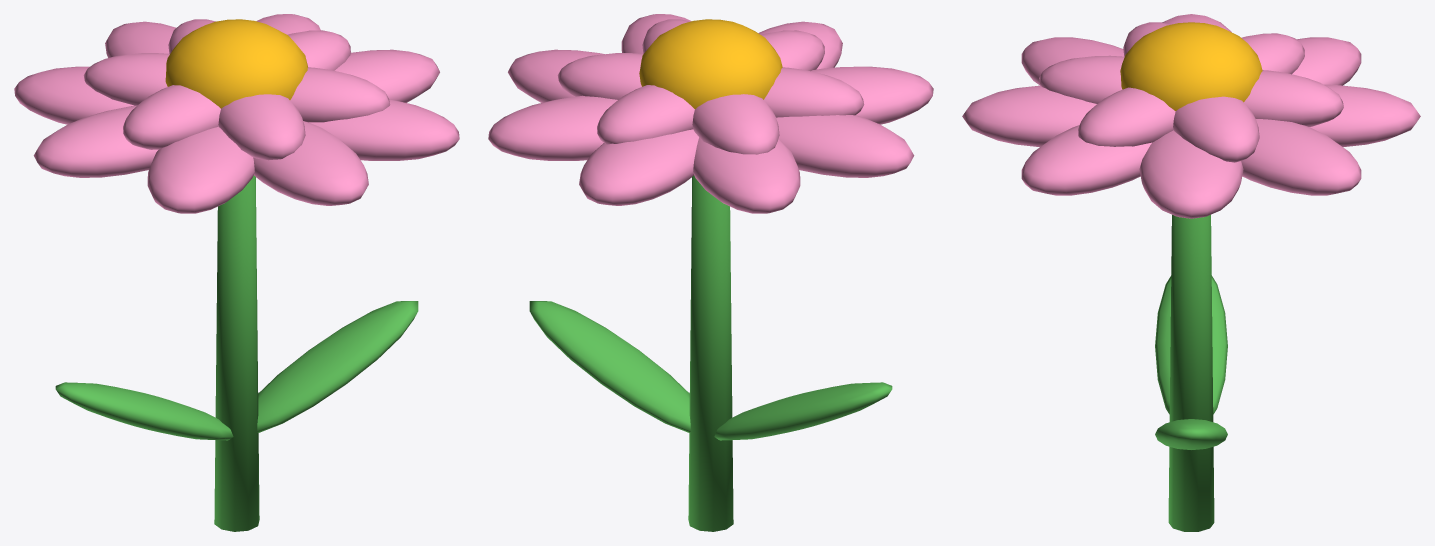
Rendered from flower_pink.glb.
The picture shows the model from 3 angles, left to right: view 1: azimuth 30°, elevation 25°; view 2: azimuth 150°, elevation 25°; view 3: azimuth 270°, elevation 25°; orthographic projection.
Visible parts, largest first — view 1: flower_pink; view 2: flower_pink; view 3: flower_pink.
Boxes of the visible parts, left/top/right/bottom form: flower_pink: left=14, top=14, right=459, bottom=531; flower_pink: left=488, top=14, right=933, bottom=531; flower_pink: left=962, top=14, right=1420, bottom=531.
Size of the model in its own units: 0.44 by 0.52 by 0.44.
